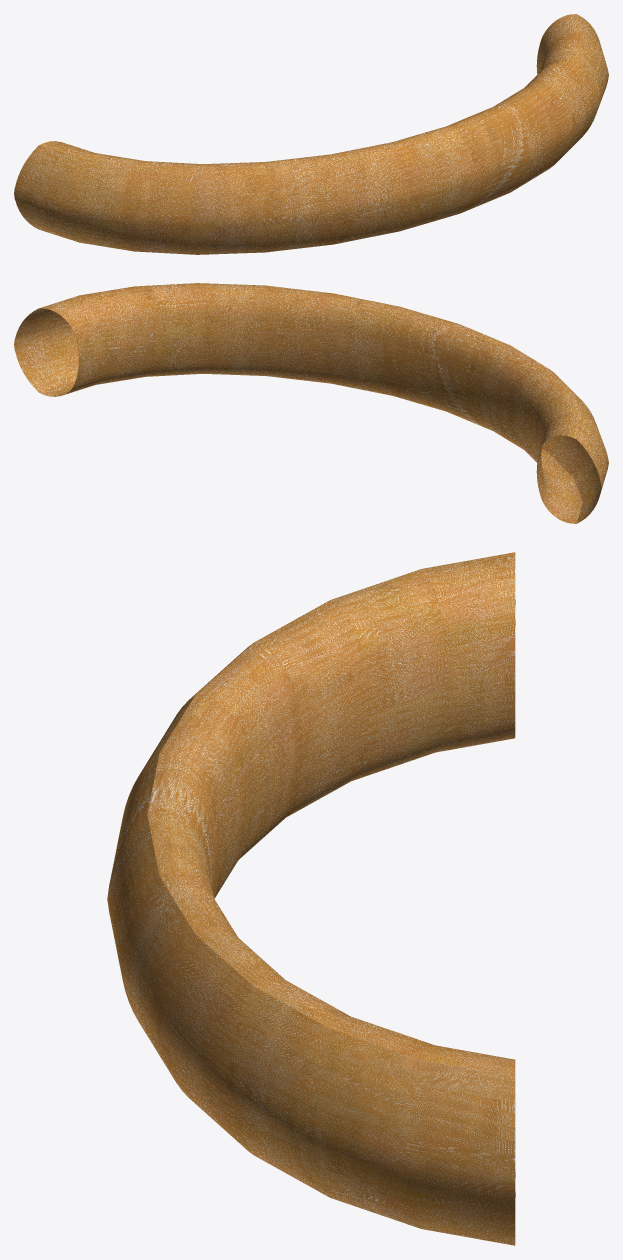
File: original-16.obj
3 views of the same model, one above another, from view 1: azimuth 30°, elevation 25°; view 2: azimuth 150°, elevation 25°; view 3: azimuth 270°, elevation 25° (orthographic). The views are drawn at different scales.
Visible parts, largest first — view 1: Ручка1/Ручка/mesh22/mesh22-geometry#mesh22-geometry; view 2: Ручка1/Ручка/mesh22/mesh22-geometry#mesh22-geometry; view 3: Ручка1/Ручка/mesh22/mesh22-geometry#mesh22-geometry.
Boxes of the visible parts, x1=… form: Ручка1/Ручка/mesh22/mesh22-geometry#mesh22-geometry: x1=14, y1=14, x2=608, y2=254; Ручка1/Ручка/mesh22/mesh22-geometry#mesh22-geometry: x1=14, y1=283, x2=608, y2=523; Ручка1/Ручка/mesh22/mesh22-geometry#mesh22-geometry: x1=107, y1=552, x2=515, y2=1245.
Bounding box in the file's own units: 0.1134 × 0.016 × 0.0341.
